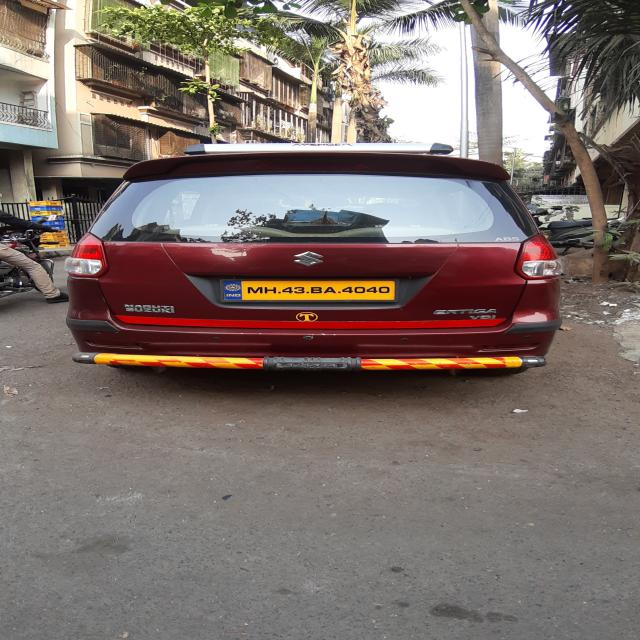Number-Plate: (224, 281, 396, 299)
